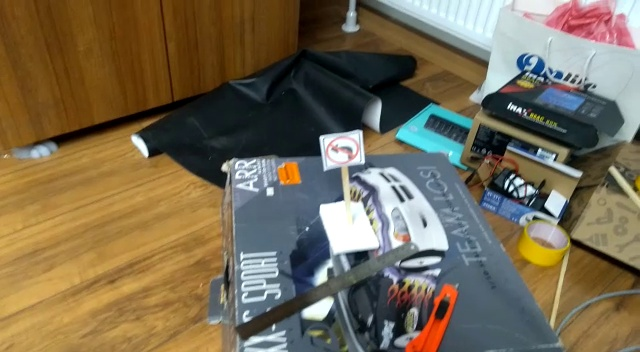sola_donulmez: (325, 129, 360, 168)
